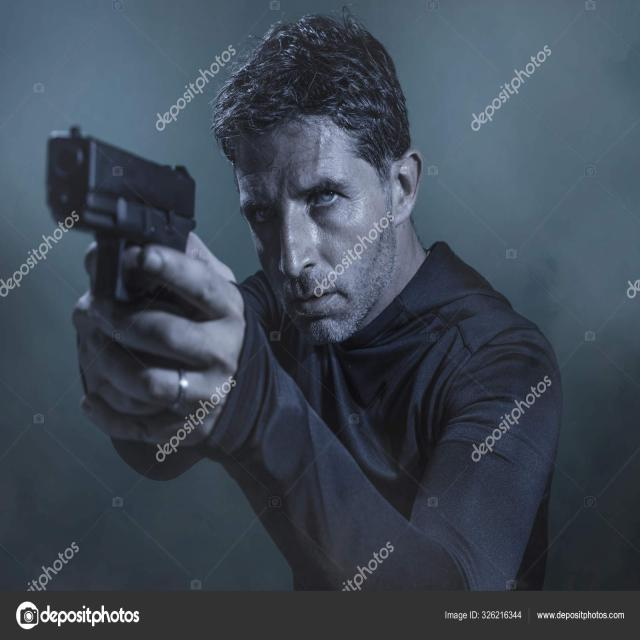HandGun: (47, 128, 196, 306)
